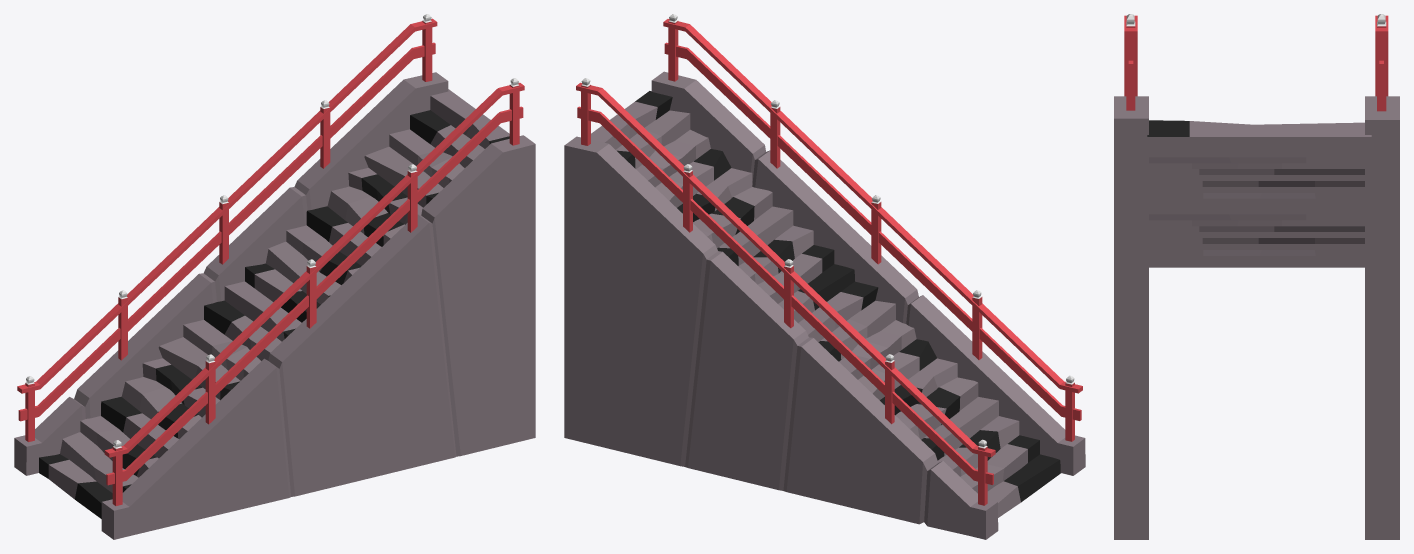
Rendered from stoneStairsLong.fbx.
3 renders of one model, left to right at view 1: azimuth 30°, elevation 25°; view 2: azimuth 150°, elevation 25°; view 3: azimuth 270°, elevation 25°, orthographic. The views are drawn at different scales.
Parts seen in each view (by area): view 1: Cube.041; view 2: Cube.041; view 3: Cube.041.
Boxes of the visible parts, left/top/right/bottom form: Cube.041: left=14, top=14, right=535, bottom=539; Cube.041: left=564, top=14, right=1085, bottom=539; Cube.041: left=1114, top=14, right=1399, bottom=539.
Bounding box in the file's own units: 447 × 360 × 181.
